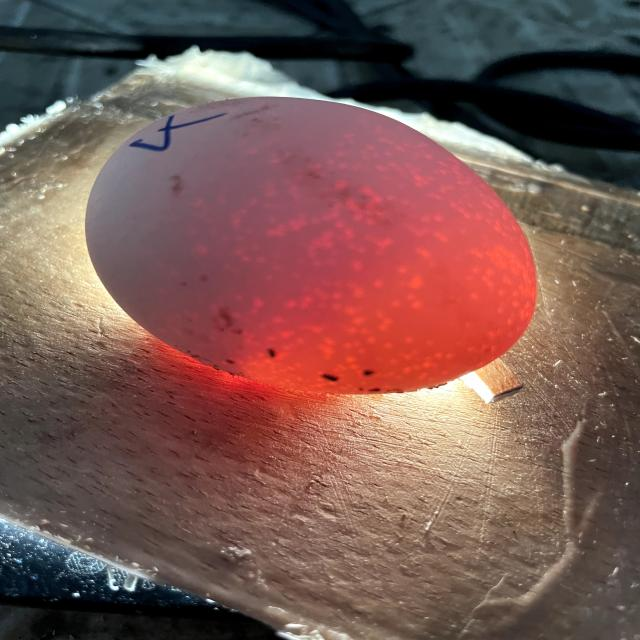fertile: (87, 97, 537, 394)
